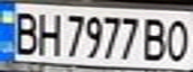7: (60, 10, 84, 58), (100, 12, 124, 60), (118, 14, 142, 61)
9: (81, 11, 106, 60)
B: (6, 7, 42, 56), (139, 15, 172, 62)
H: (33, 8, 63, 57)
O: (163, 15, 193, 63)
